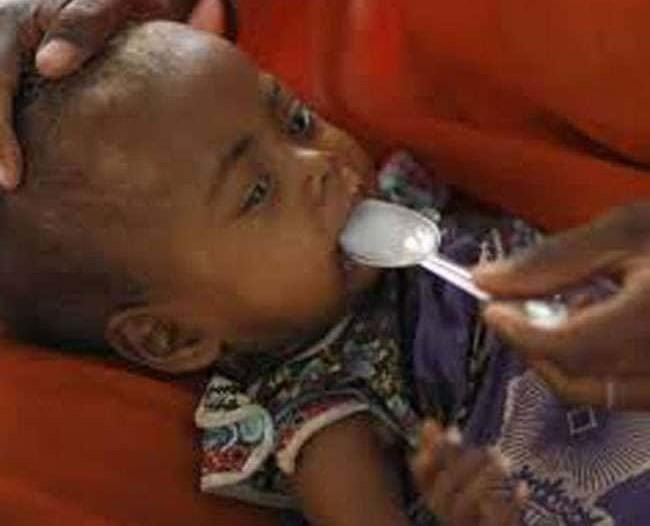Stunting: (17, 26, 409, 434)
